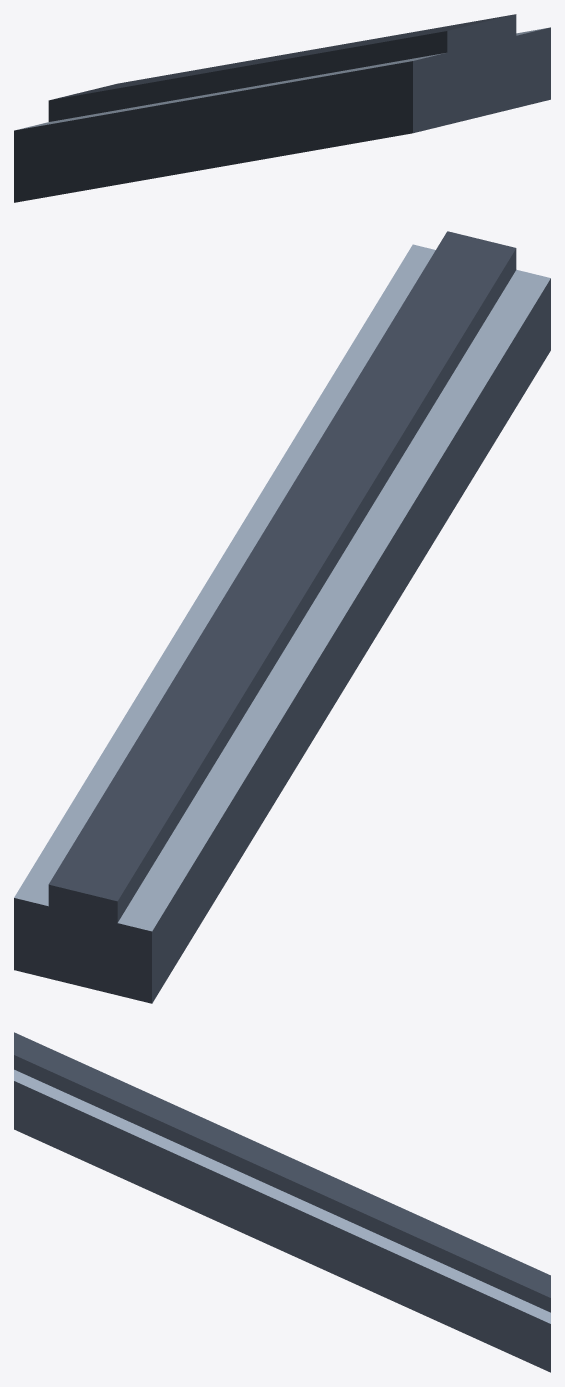
The model's file is monorail_trackSlope.glb.
3 renders of one model, top to bottom at view 1: azimuth 30°, elevation 25°; view 2: azimuth 150°, elevation 25°; view 3: azimuth 270°, elevation 25°, orthographic. The views are drawn at different scales.
Visible parts, largest first — view 1: monorail_trackSlope; view 2: monorail_trackSlope; view 3: monorail_trackSlope.
Part boxes in pixels (x1=…): monorail_trackSlope: x1=14, y1=14, x2=550, y2=202; monorail_trackSlope: x1=14, y1=231, x2=550, y2=1003; monorail_trackSlope: x1=14, y1=1032, x2=550, y2=1372.
Size of the model in its own units: 0.2 by 0.63 by 1.
